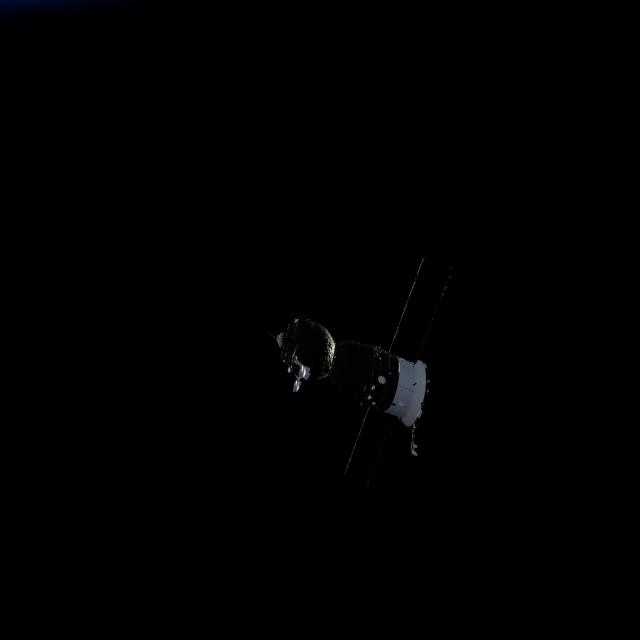Satellites revolving around earth: (269, 249, 456, 480)
